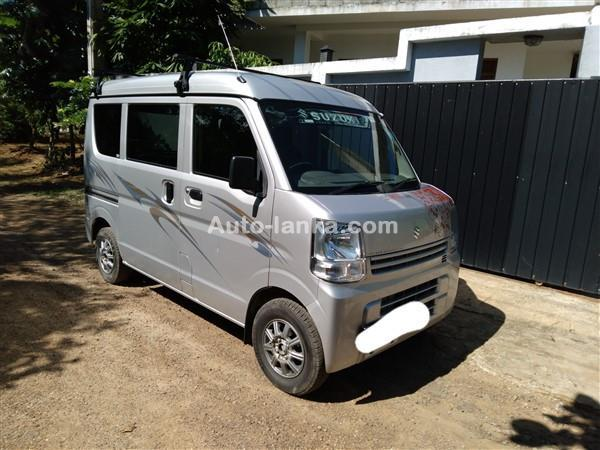van: (84, 70, 459, 399)
